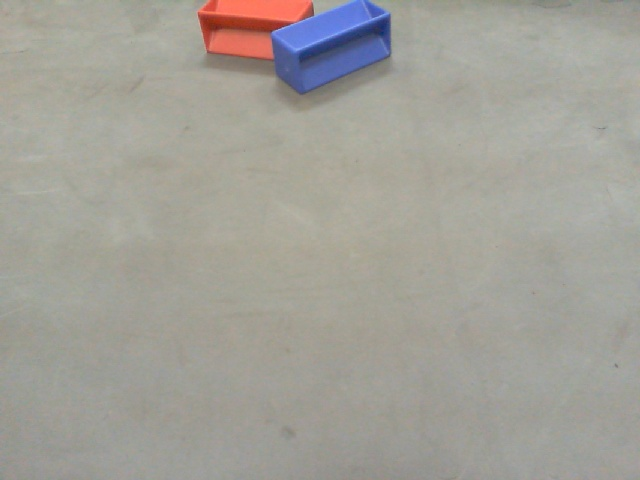BlueSample: (270, 1, 392, 102)
RedSample: (196, 1, 316, 57)
